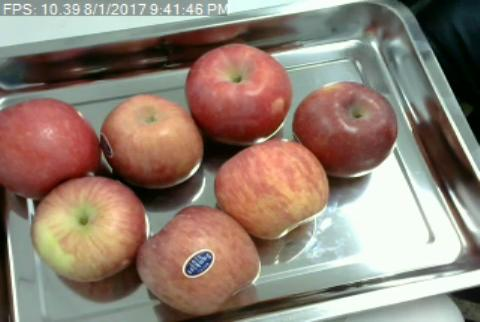apple: (140, 206, 258, 314), (31, 176, 144, 282), (215, 141, 331, 241), (186, 43, 289, 143), (292, 81, 398, 176), (102, 93, 206, 188), (0, 98, 99, 196)
